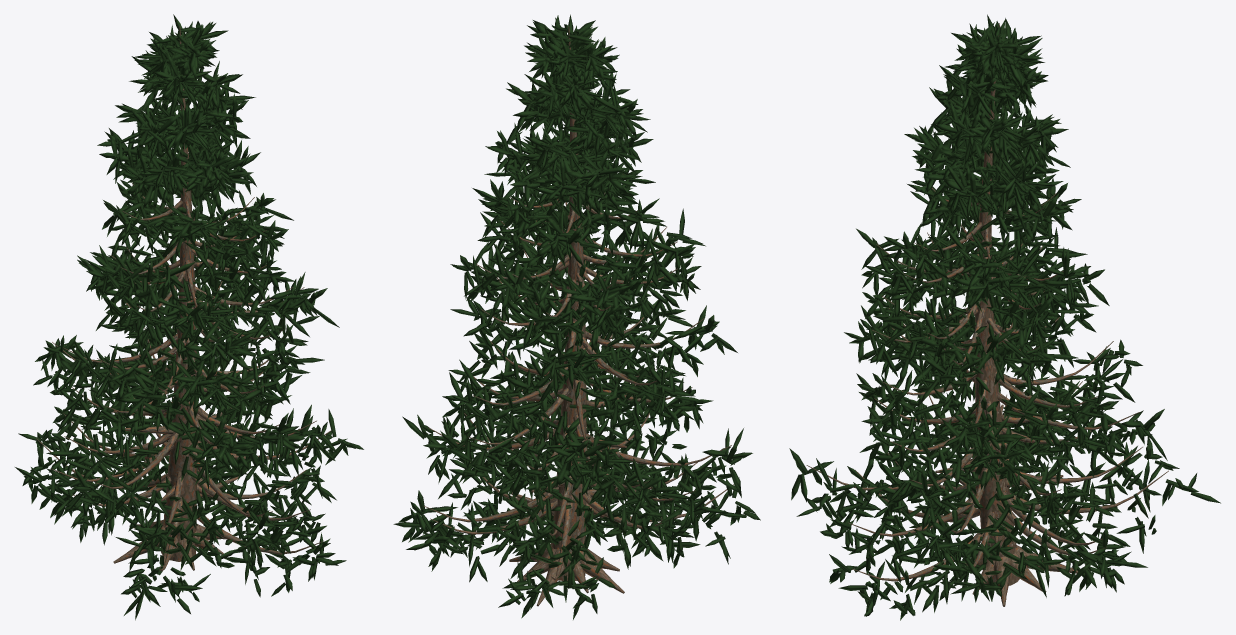
File: spruce_young_lod2.gltf
3 renders of one model, left to right at view 1: azimuth 30°, elevation 25°; view 2: azimuth 150°, elevation 25°; view 3: azimuth 270°, elevation 25°, orthographic. The views are drawn at different scales.
Visible parts, largest first — view 1: spruce_young_lod2; view 2: spruce_young_lod2; view 3: spruce_young_lod2.
Boxes of the visible parts, x1=… form: spruce_young_lod2: x1=15, y1=14, x2=363, y2=620; spruce_young_lod2: x1=393, y1=14, x2=760, y2=619; spruce_young_lod2: x1=789, y1=14, x2=1220, y2=620.
Bounding box in the file's own units: 2.47 × 4.29 × 2.96.
2 materials, 2 textured.
